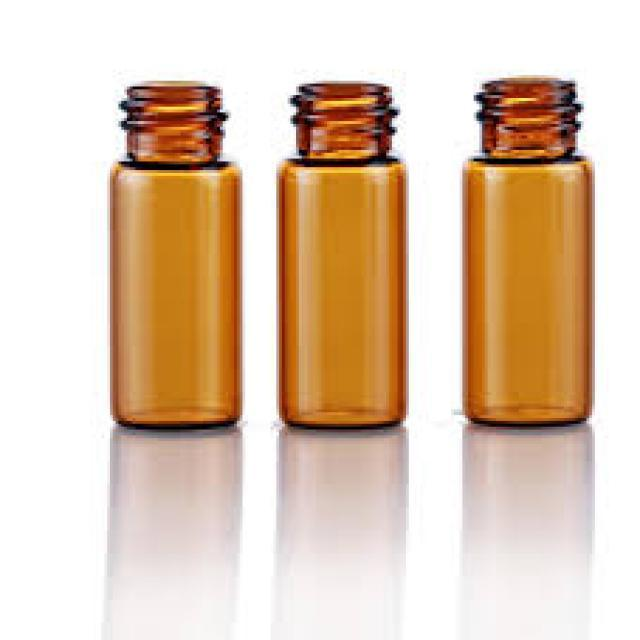Glass: (456, 76, 594, 431), (278, 69, 408, 428), (110, 77, 240, 433)
